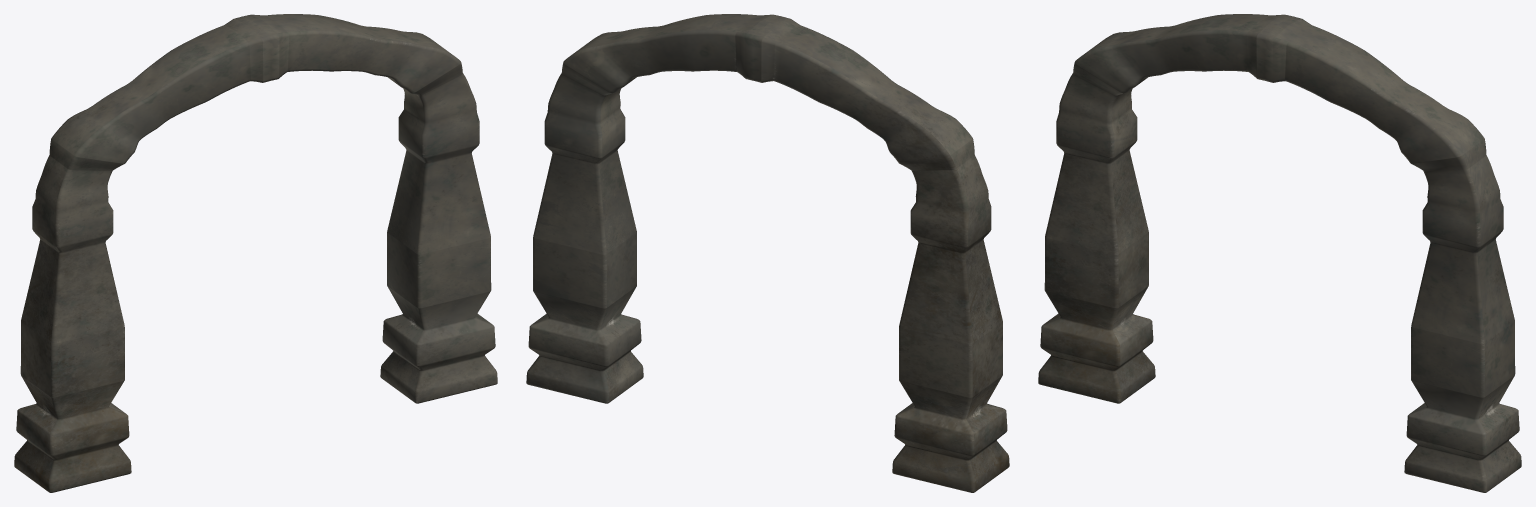
File: gate_4.obj
The picture shows the model from 3 angles, left to right: view 1: azimuth 30°, elevation 25°; view 2: azimuth 150°, elevation 25°; view 3: azimuth 330°, elevation 25°; orthographic projection.
Visible parts, largest first — view 1: Sweep_Mesh.002; view 2: Sweep_Mesh.002; view 3: Sweep_Mesh.002.
Boxes of the visible parts, box(x1,y1,x2,y2) form: Sweep_Mesh.002: box(14, 14, 497, 492); Sweep_Mesh.002: box(526, 14, 1009, 492); Sweep_Mesh.002: box(1038, 14, 1521, 492).
Size of the model in its own units: 3.5 by 3 by 0.5.
